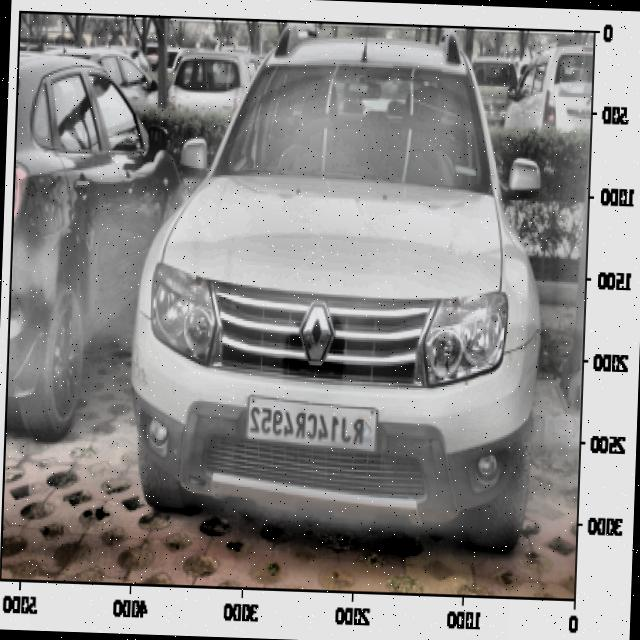license_plate: (242, 405, 372, 448)
